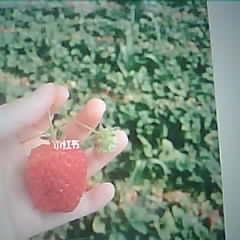straw-ripe: (27, 142, 86, 211)
